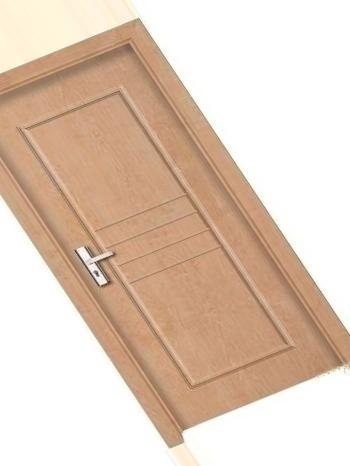door: (0, 19, 350, 453)
